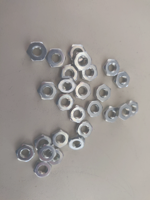nut: (26, 42, 47, 62), (38, 82, 58, 101), (15, 144, 36, 162), (33, 161, 53, 179), (47, 49, 66, 67), (51, 130, 69, 149), (94, 84, 112, 102), (103, 59, 120, 78), (58, 77, 76, 94), (58, 94, 75, 112), (75, 82, 92, 100), (81, 64, 98, 82), (86, 101, 103, 119), (70, 106, 87, 124), (38, 147, 56, 164), (76, 52, 92, 71), (62, 65, 79, 82), (69, 45, 86, 62), (76, 122, 93, 139), (49, 149, 66, 166), (114, 72, 130, 89), (104, 106, 119, 124), (118, 104, 133, 122), (35, 135, 51, 151), (70, 136, 86, 151), (129, 100, 139, 117)
